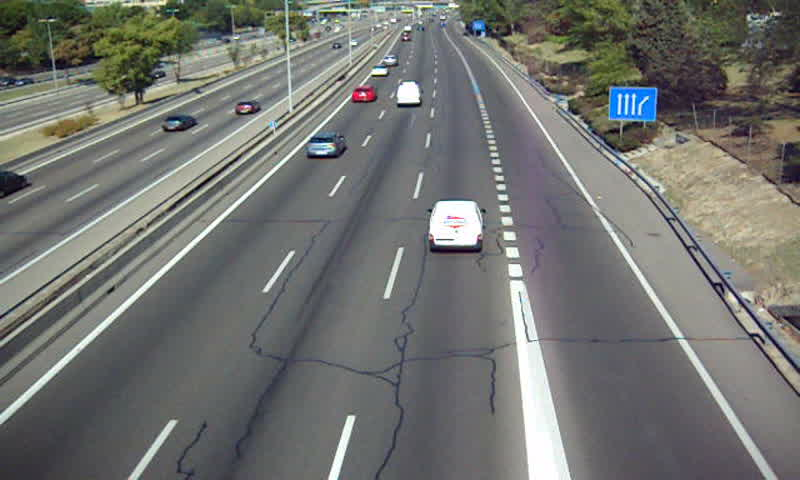car: (306, 131, 345, 158), (352, 86, 374, 103), (371, 64, 388, 78), (383, 53, 395, 66)
van: (428, 200, 483, 250), (396, 81, 422, 107)
